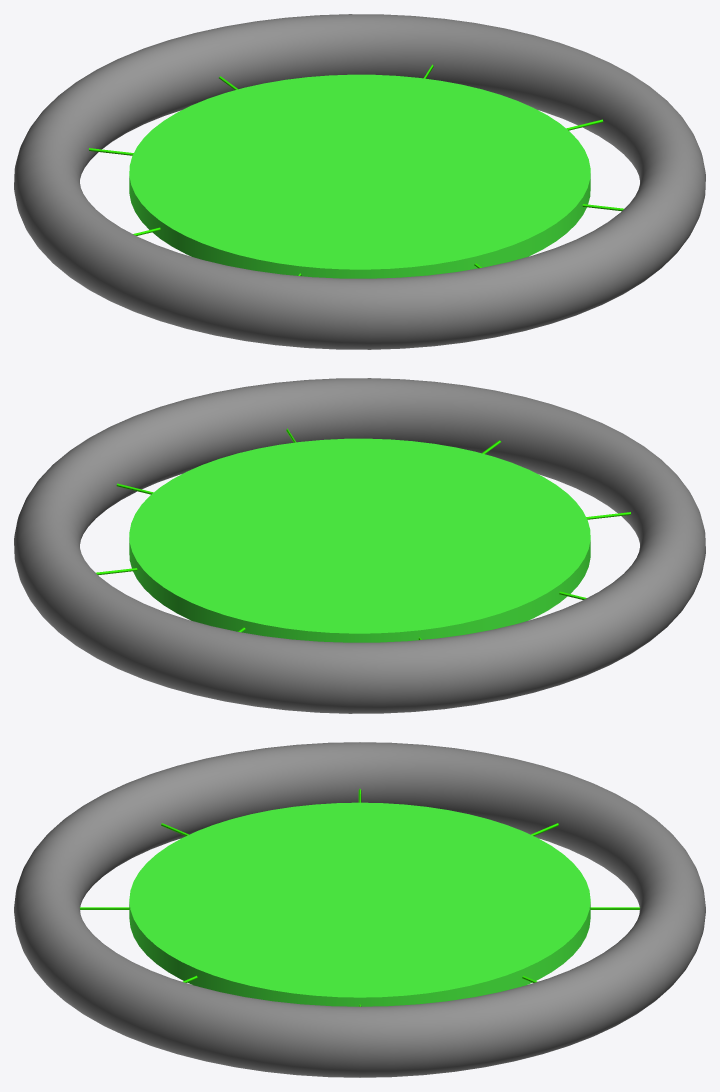
The model's file is Trampoline.fbx.
3 renders of one model, top to bottom at view 1: azimuth 30°, elevation 25°; view 2: azimuth 150°, elevation 25°; view 3: azimuth 270°, elevation 25°, orthographic.
Parts seen in each view (by area): view 1: Torus, Cylinder; view 2: Torus, Cylinder; view 3: Torus, Cylinder.
Boxes of the visible parts, left/top/right/bottom form: Torus: left=14, top=14, right=705, bottom=349; Cylinder: left=129, top=74, right=590, bottom=278; Torus: left=14, top=378, right=705, bottom=713; Cylinder: left=129, top=438, right=590, bottom=642; Torus: left=14, top=742, right=705, bottom=1077; Cylinder: left=129, top=802, right=590, bottom=1006.
Bounding box in the file's own units: 210 × 21.9 × 210.
